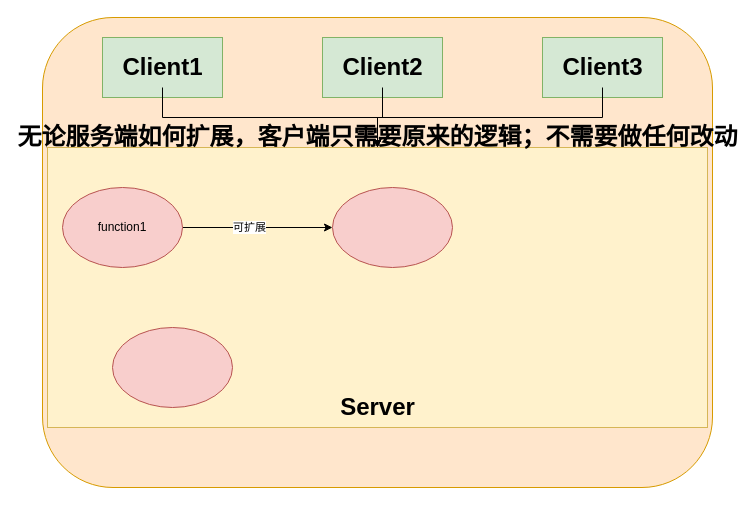
The diagram is 754 pixels wide and 505 high, and some of its shapes have lost their labels. The box of each missing label's shape, as (x1, y1, x2, y2) in pixels:
function2: (112, 326, 232, 408)
profunction1: (332, 186, 452, 268)
